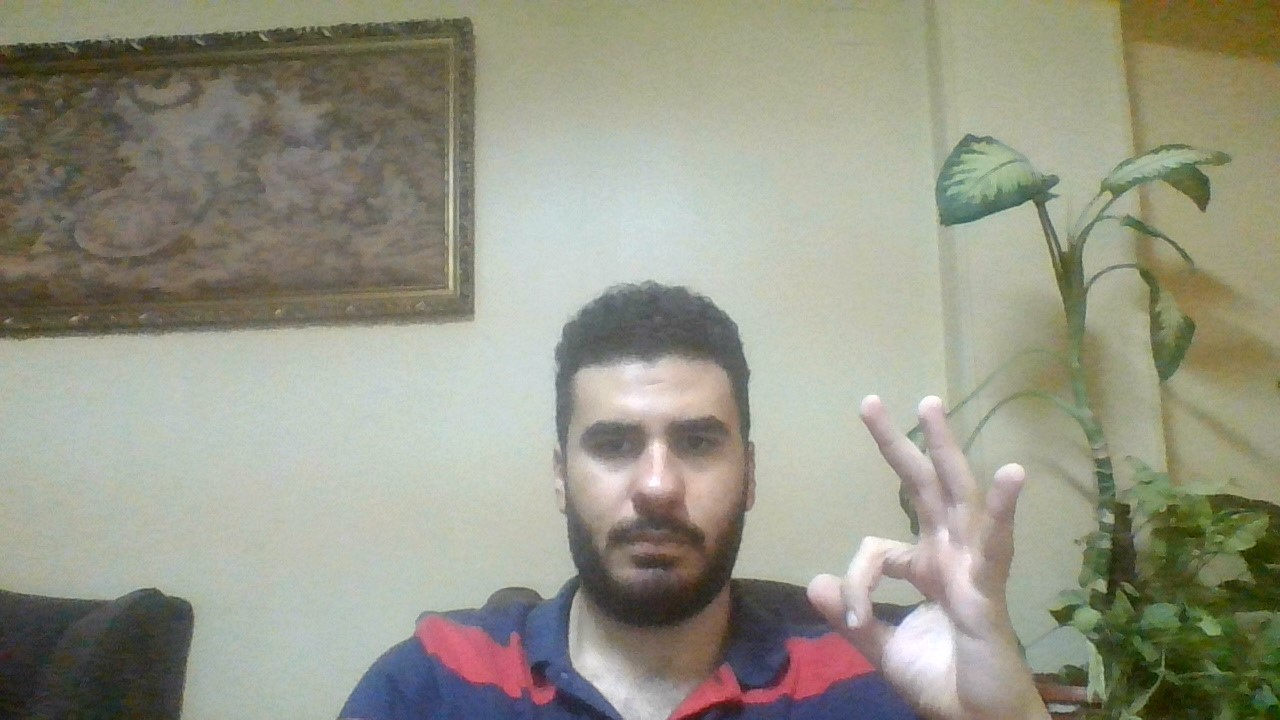okay: (796, 384, 1060, 720)
